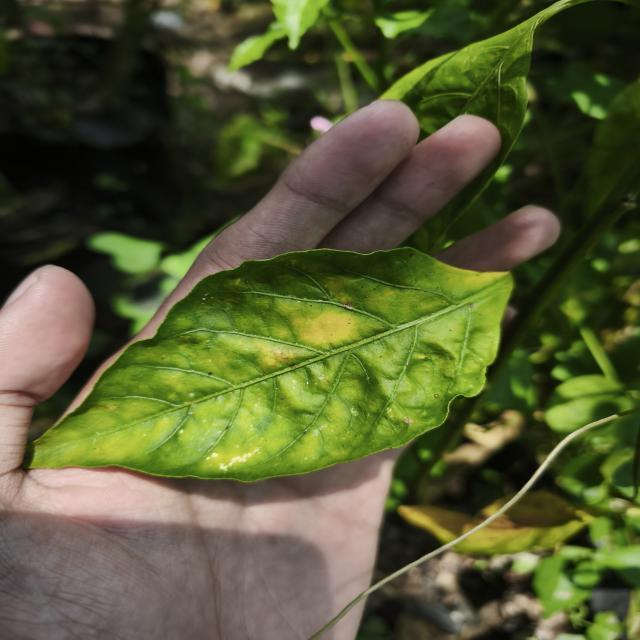Virus Kuning: (21, 245, 516, 483)
